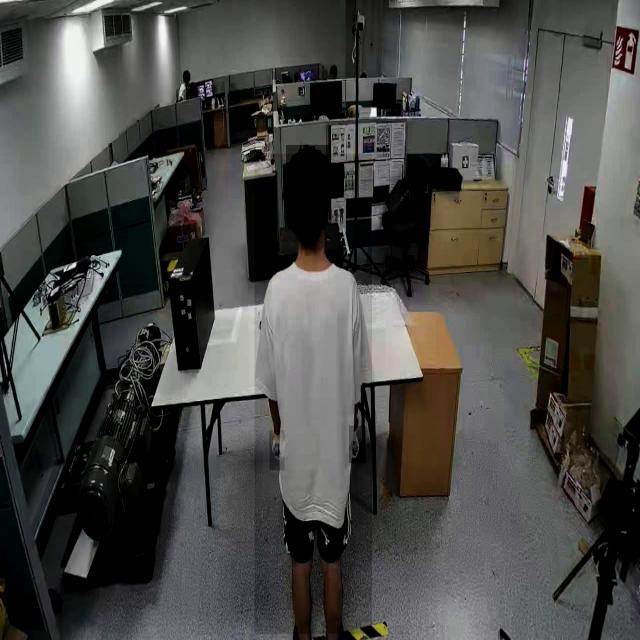hand_glove: (348, 426, 366, 464), (269, 430, 285, 471)
head_nohelmet: (286, 145, 328, 192), (183, 70, 190, 76)
person: (254, 153, 372, 634)
